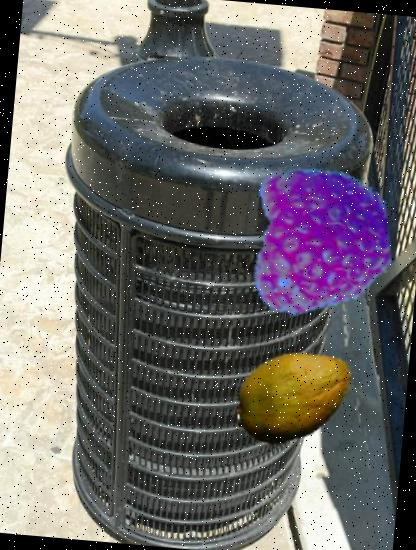Papaya: (232, 335, 359, 462)
Raspberry: (240, 160, 400, 320)
